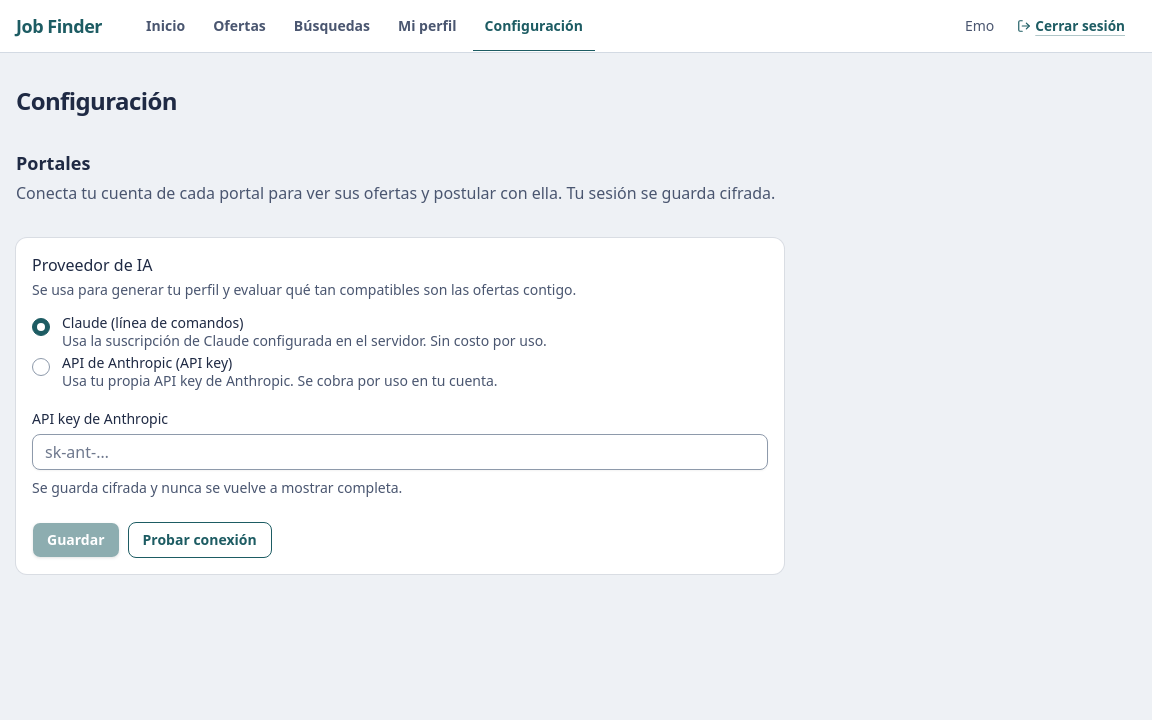
Test: Configuración de IA › muestra el error de la API al elegir la API sin key
Click the radio button named "API key" next to "API de Anthropic (API key)".
click(41, 367)  # box [32,358,50,376]
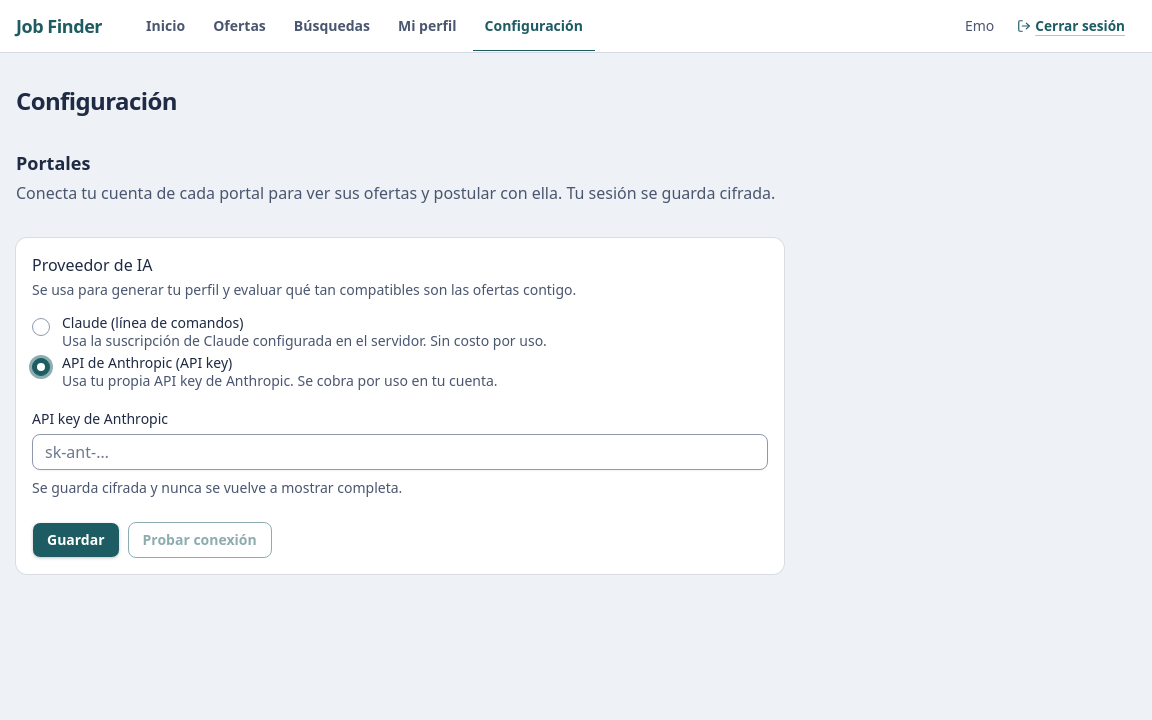
Click the button "Guardar".
click(76, 540)  # box [32,522,120,558]
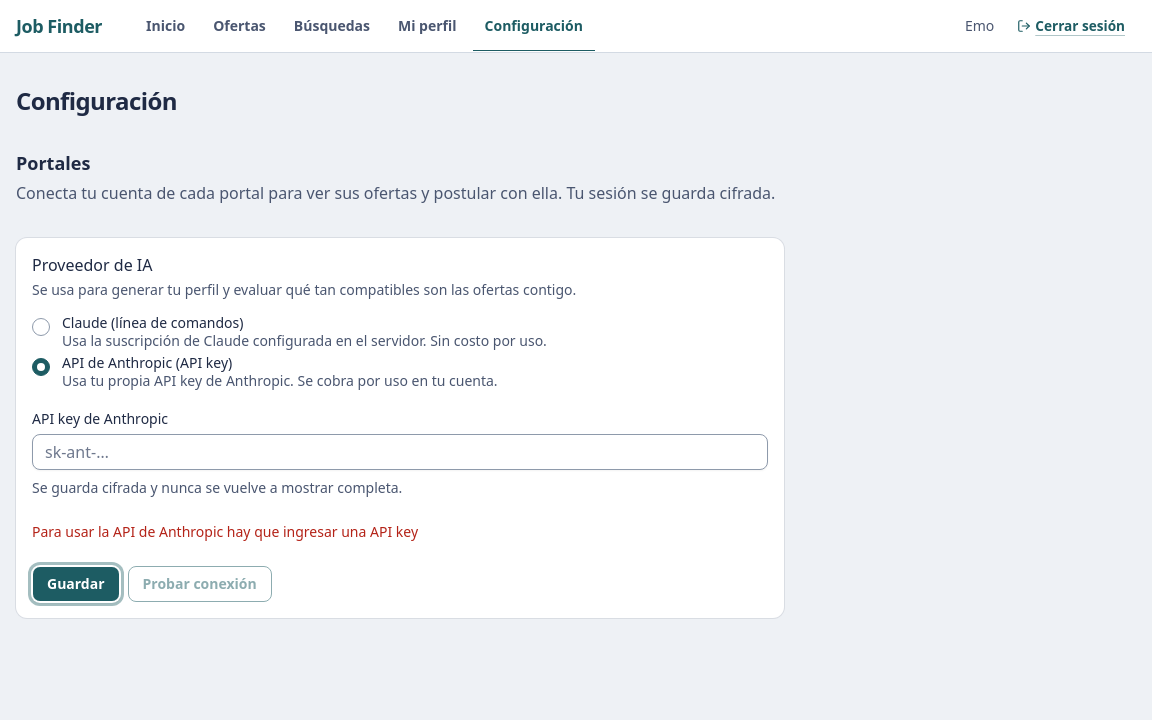
Result: the message shows "hay que ingresar una API key" at [32,522,418,541]
